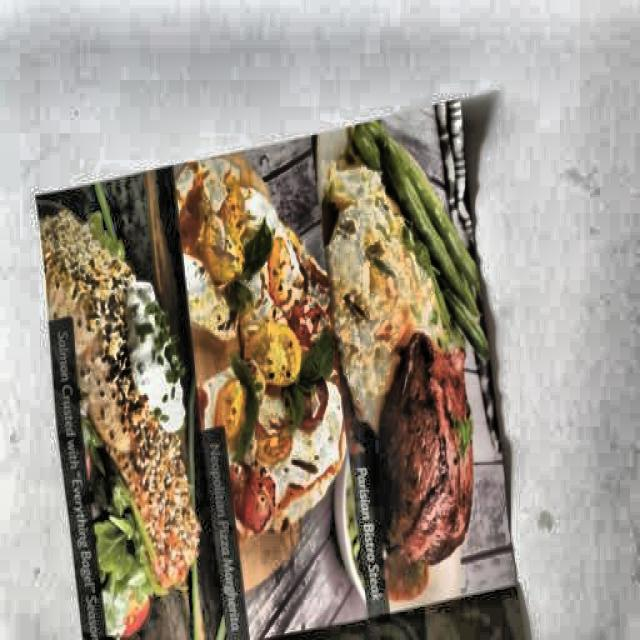paper: (33, 106, 537, 640)
